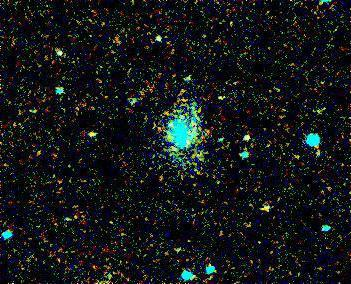star: (209, 82, 239, 112)
